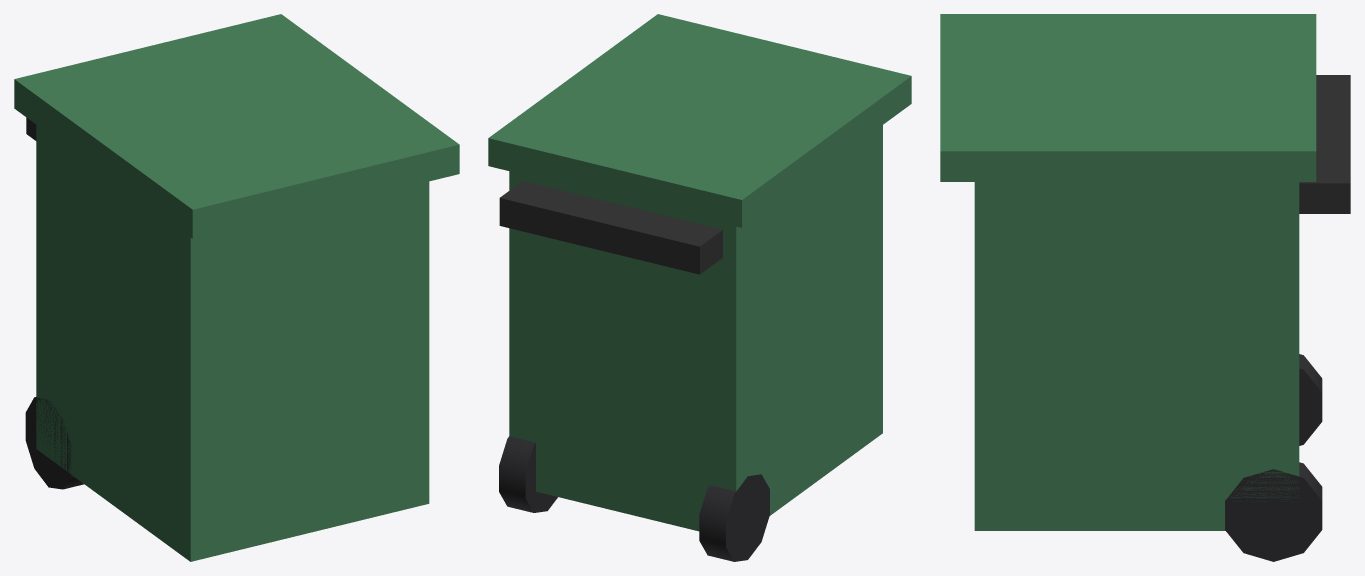
Rendered from trash_bin_wheelie.glb.
3 renders of one model, left to right at view 1: azimuth 30°, elevation 25°; view 2: azimuth 150°, elevation 25°; view 3: azimuth 270°, elevation 25°, orthographic. The views are drawn at different scales.
Parts seen in each view (by area): view 1: trash_bin_wheelie_body; view 2: trash_bin_wheelie_body; view 3: trash_bin_wheelie_body.
Part boxes in pixels (x1,y1,x2,y2): trash_bin_wheelie_body: (14,14,459,561); trash_bin_wheelie_body: (488,14,911,561); trash_bin_wheelie_body: (940,14,1350,561).
Bounding box in the file's own units: 0.038 × 0.054 × 0.048.
